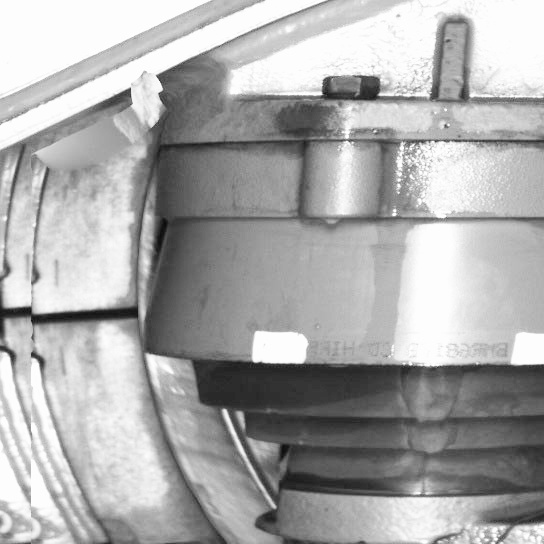ClosedKnifeSwitch: (33, 144, 305, 542)
